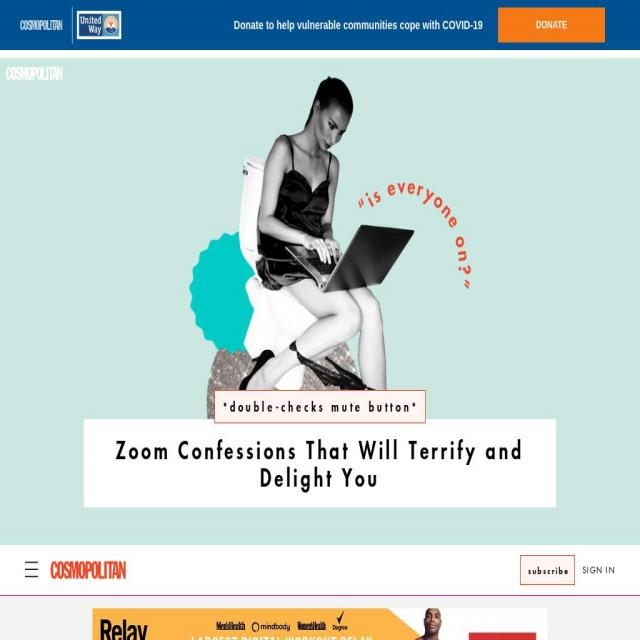login-option: (579, 555, 616, 583)
options: (22, 552, 46, 583)
